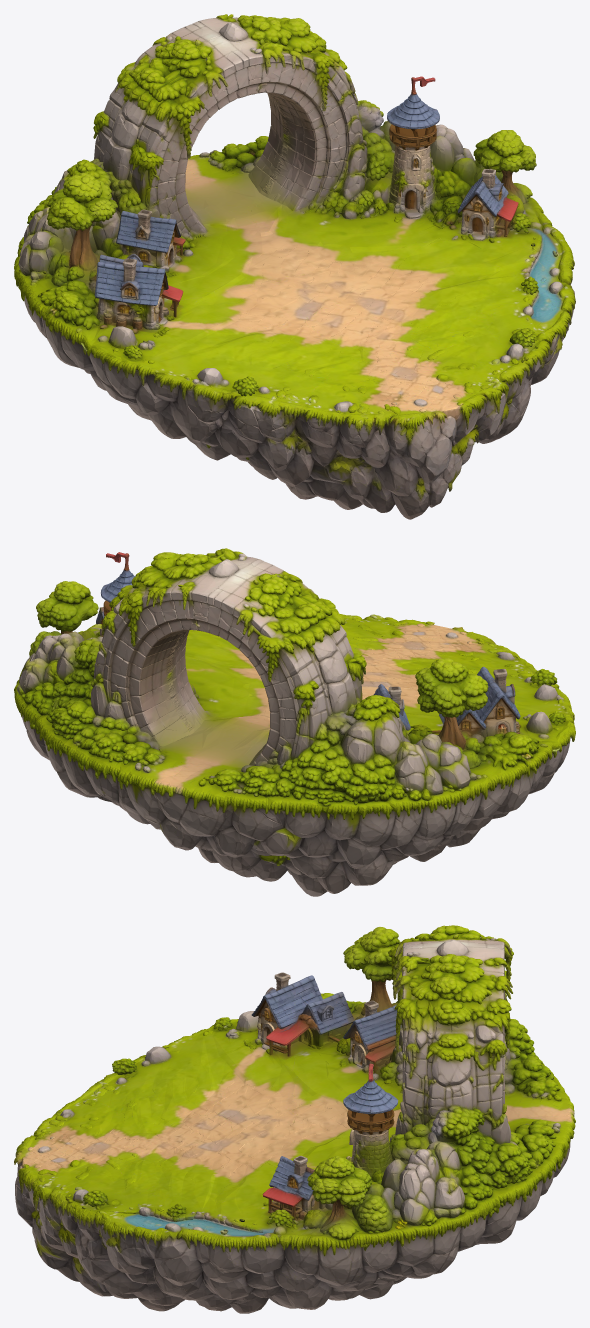
The model's file is village-optimized.glb.
The picture shows the model from 3 angles, top to bottom: view 1: azimuth 30°, elevation 25°; view 2: azimuth 150°, elevation 25°; view 3: azimuth 270°, elevation 25°; orthographic projection.
Visible parts, largest first — view 1: world; view 2: world; view 3: world.
Part boxes in pixels (x1,y1,x2,y2): world: (14, 14, 575, 519); world: (14, 548, 575, 896); world: (14, 925, 575, 1313).
Bounding box in the file's own units: 0.9907 × 0.73 × 0.9997.
Materials: 1 (1 with a texture image).
